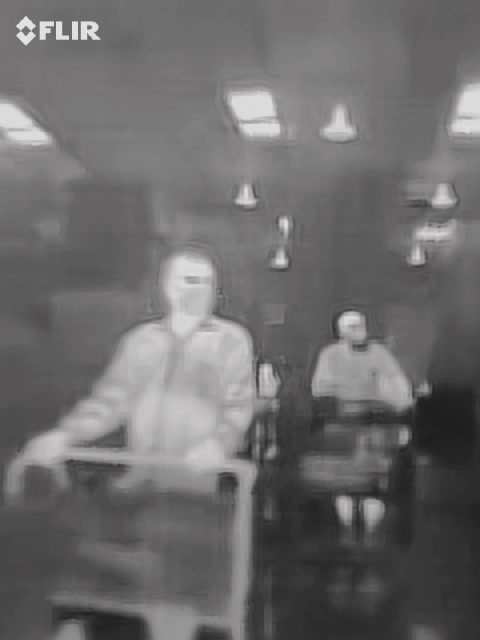head: (160, 251, 222, 322)
